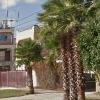Palm tree: (41, 2, 94, 99)
